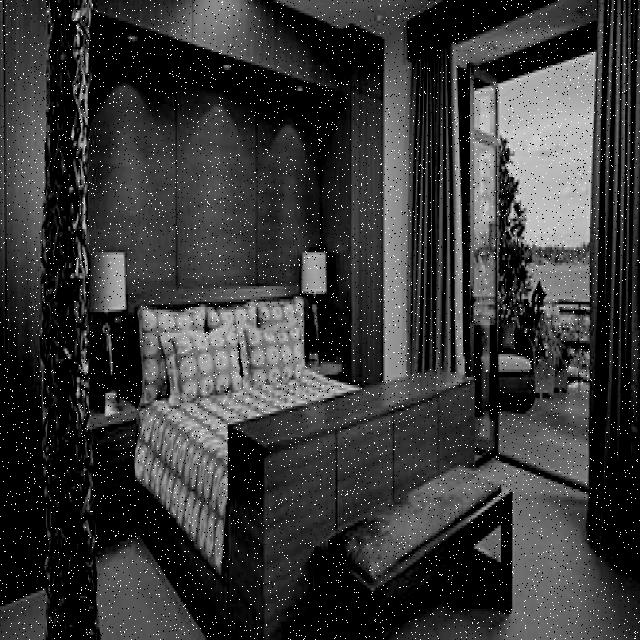bed: (132, 296, 362, 568)
